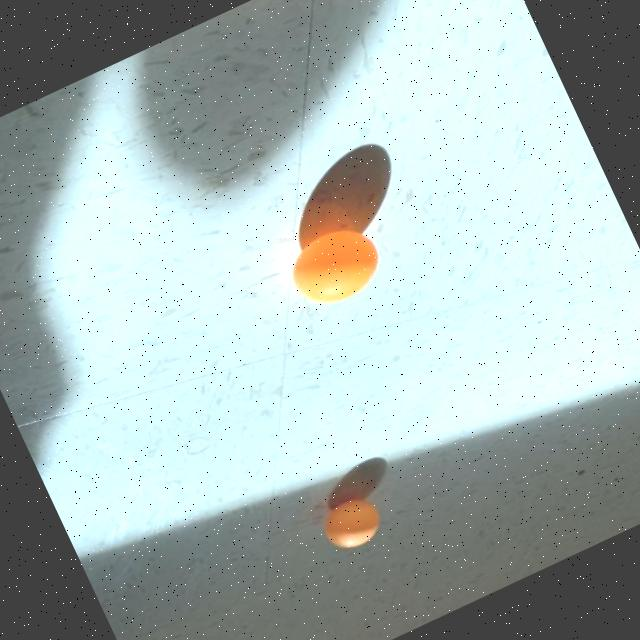ping-pong-ball: (274, 211, 395, 321), (310, 484, 392, 560)
